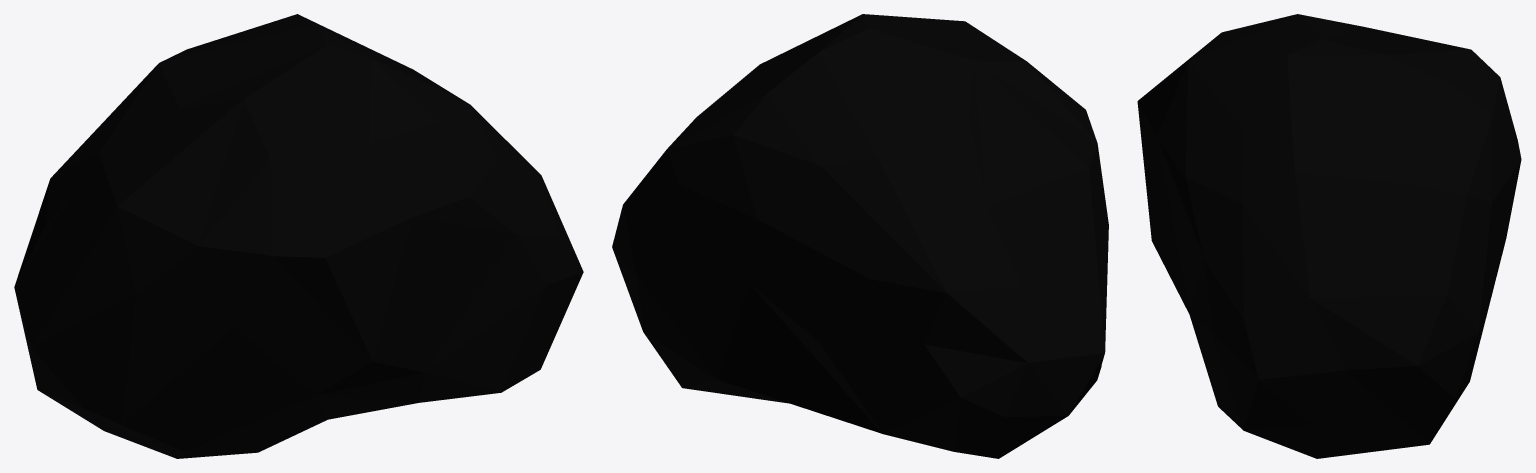
Rendered from Copper Ore 02.fbx.
3 renders of one model, left to right at view 1: azimuth 30°, elevation 25°; view 2: azimuth 150°, elevation 25°; view 3: azimuth 270°, elevation 25°, orthographic. The views are drawn at different scales.
Parts seen in each view (by area): view 1: Copper Ore 02; view 2: Copper Ore 02; view 3: Copper Ore 02.
Boxes of the visible parts, x1,y1,x2,y2 form: Copper Ore 02: [14, 14, 583, 458]; Copper Ore 02: [612, 14, 1108, 458]; Copper Ore 02: [1137, 14, 1521, 458].
Size of the model in its own units: 32.24 by 24.42 by 23.25.
